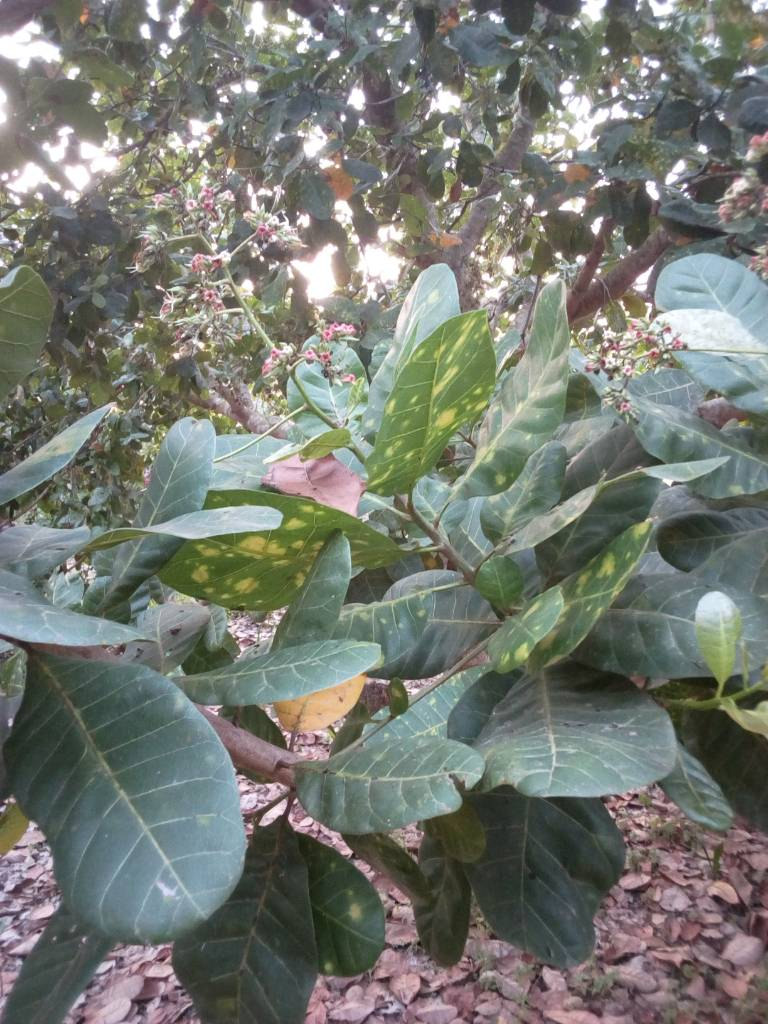Alternariose: (10, 661, 238, 919), (493, 523, 657, 678), (372, 317, 491, 502), (208, 489, 377, 603)
